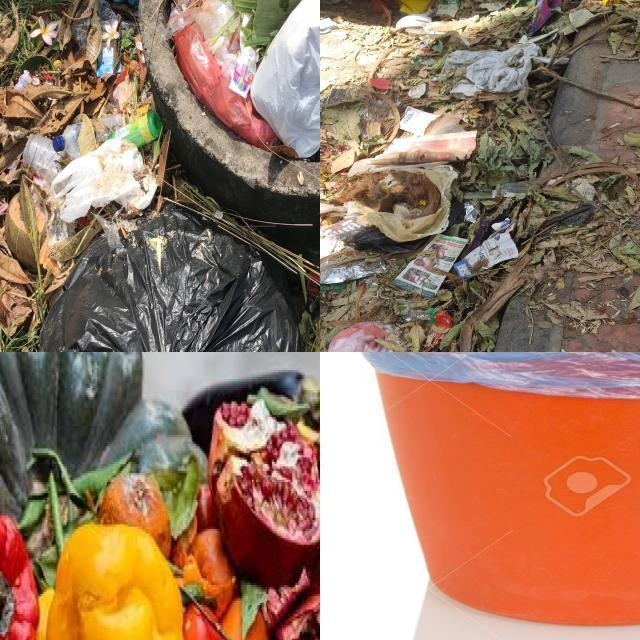Disposable: (195, 0, 234, 40)
Garbage: (320, 0, 640, 352), (0, 0, 299, 352), (0, 352, 320, 640), (171, 0, 320, 165)
Plastic: (396, 14, 433, 30)
Plastic_Bag: (41, 204, 301, 352), (321, 165, 479, 254), (174, 23, 276, 150), (250, 0, 320, 158), (51, 140, 157, 222), (442, 43, 540, 97), (327, 321, 399, 352), (97, 0, 118, 78), (399, 106, 438, 137), (73, 21, 86, 48), (403, 309, 431, 321), (513, 69, 515, 71)
Plastic_Straw: (396, 299, 413, 302), (367, 295, 379, 298), (381, 297, 389, 299)
Plastic_bottle: (22, 134, 61, 187), (108, 111, 162, 148), (53, 115, 86, 159), (86, 113, 123, 149), (15, 70, 32, 91)
Plastic_wraper: (320, 261, 386, 285), (230, 46, 257, 99), (526, 0, 561, 36), (431, 309, 454, 328), (435, 0, 460, 17), (427, 333, 444, 352), (428, 308, 437, 314), (431, 330, 435, 334)
